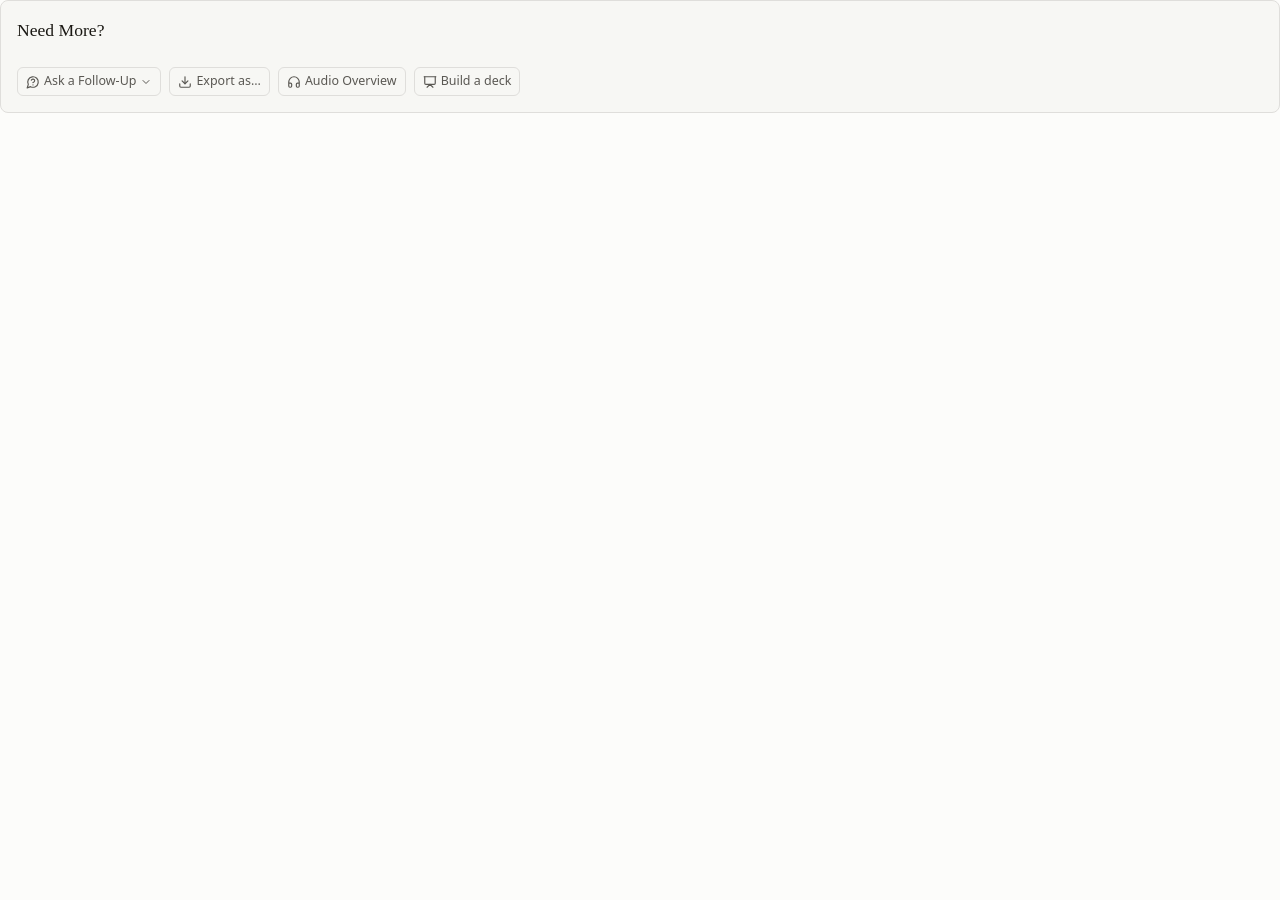
Test: AuxDialogFocus › F2: audio selector Close returns focus to the Audio Overview opener
What coordinates should you click on to do the following:
click the button "Audio Overview"
I would click on:
 (342, 82)
Its box is [278, 67, 406, 96].
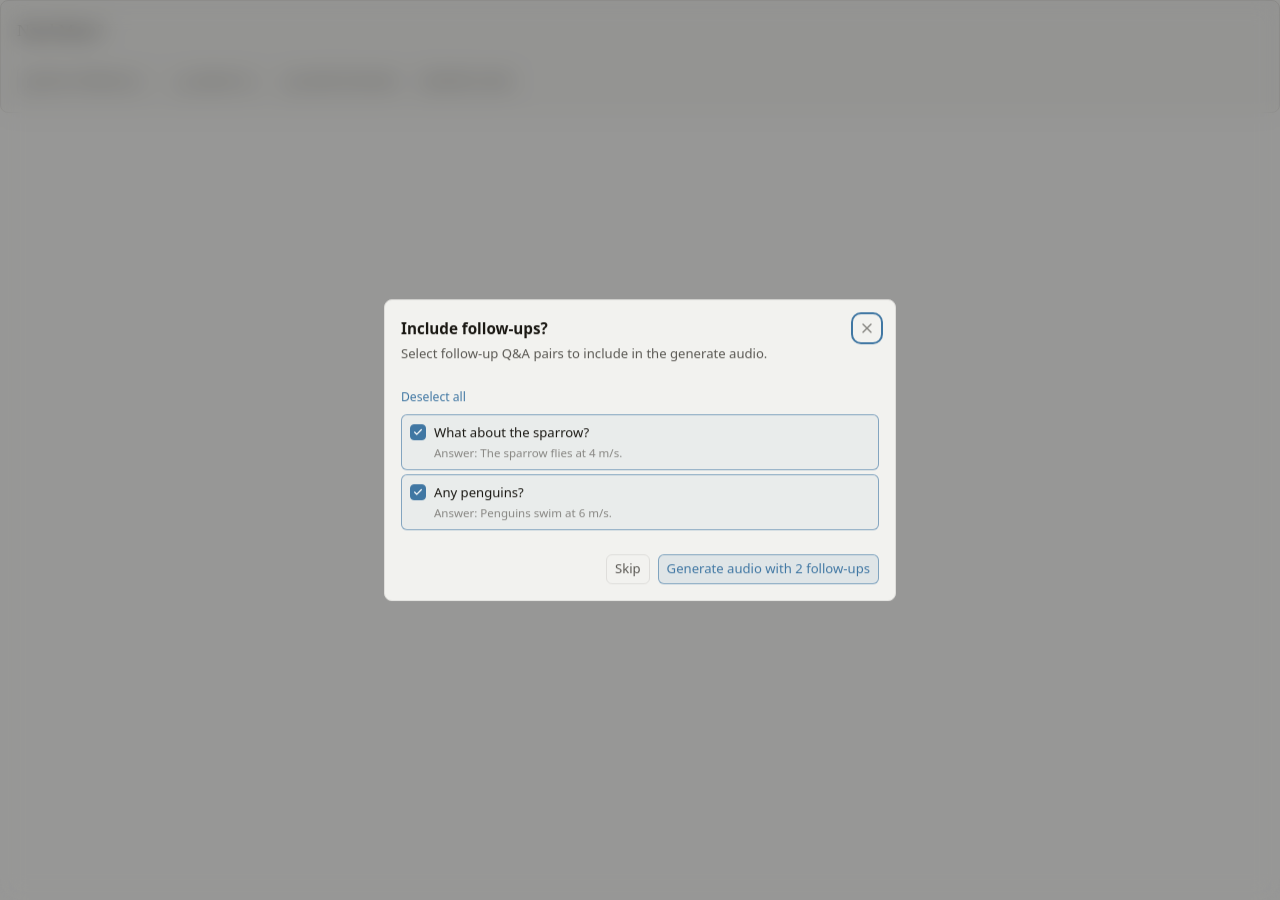
What coordinates should you click on to do the following:
click the button named "Close dialog"
I would click on:
 (867, 328)
Its box is [855, 316, 879, 340].
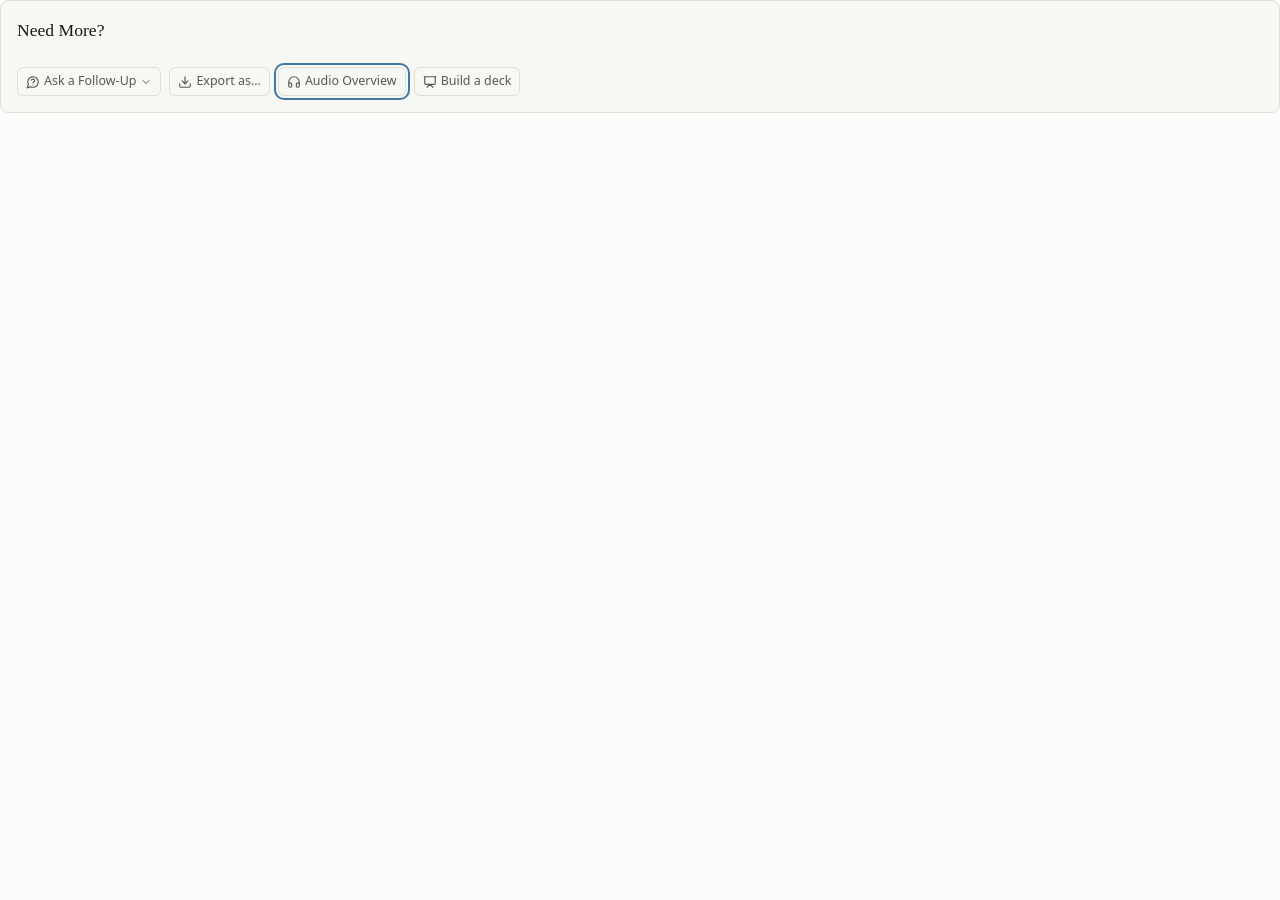
Expected: the dialog is gone
